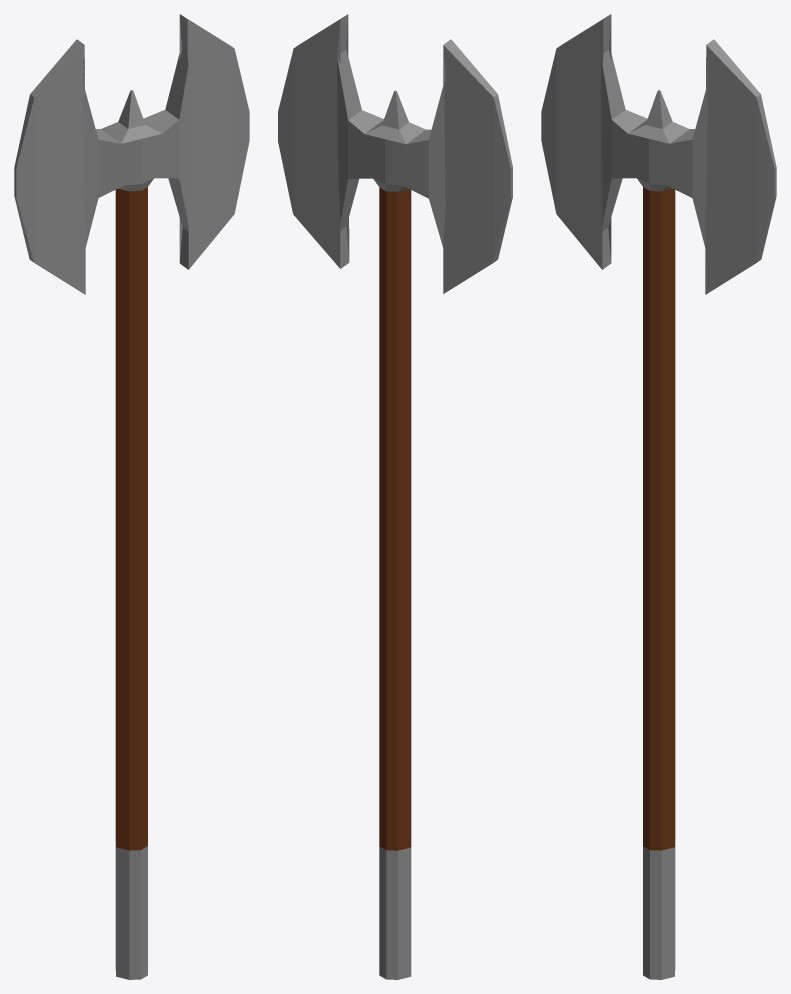
File: vakthol_axe.glb
The picture shows the model from 3 angles, left to right: view 1: azimuth 30°, elevation 25°; view 2: azimuth 150°, elevation 25°; view 3: azimuth 330°, elevation 25°; orthographic projection.
Parts seen in each view (by area): view 1: Cube.002; view 2: Cube.002; view 3: Cube.002.
Part boxes in pixels (x1,y1,x2,y2): Cube.002: (14, 14, 249, 979); Cube.002: (278, 14, 512, 979); Cube.002: (541, 14, 776, 979).
Bounding box in the file's own units: 0.4711 × 1.82 × 0.0707.
